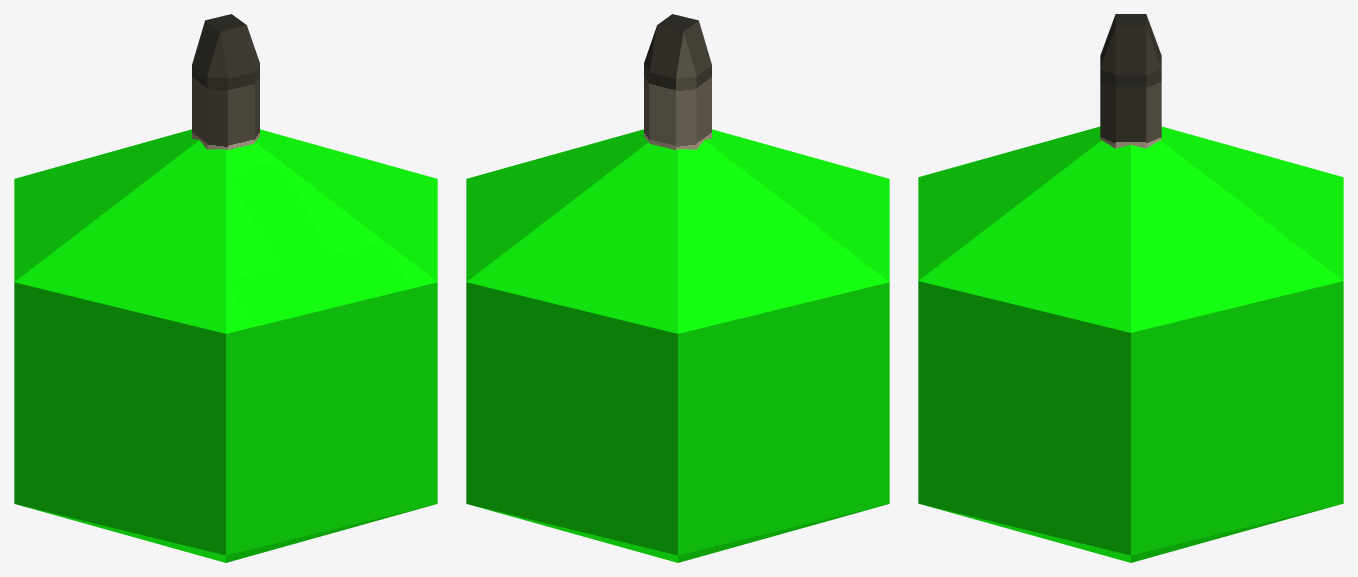
The model's file is sticky.gltf.
The picture shows the model from 3 angles, left to right: view 1: azimuth 30°, elevation 25°; view 2: azimuth 150°, elevation 25°; view 3: azimuth 270°, elevation 25°; orthographic projection.
Visible parts, largest first — view 1: sphere, beveled_cuboid; view 2: sphere, beveled_cuboid; view 3: sphere, beveled_cuboid.
Part boxes in pixels (left/top/right/bottom): sphere: left=14, top=129, right=437, bottom=562; beveled_cuboid: left=192, top=14, right=259, bottom=149; sphere: left=466, top=129, right=889, bottom=562; beveled_cuboid: left=644, top=14, right=711, bottom=149; sphere: left=918, top=126, right=1343, bottom=562; beveled_cuboid: left=1100, top=14, right=1161, bottom=148.
Bounding box in the file's own units: 0.5 × 0.6094 × 0.433.
1 material, 1 textured.
